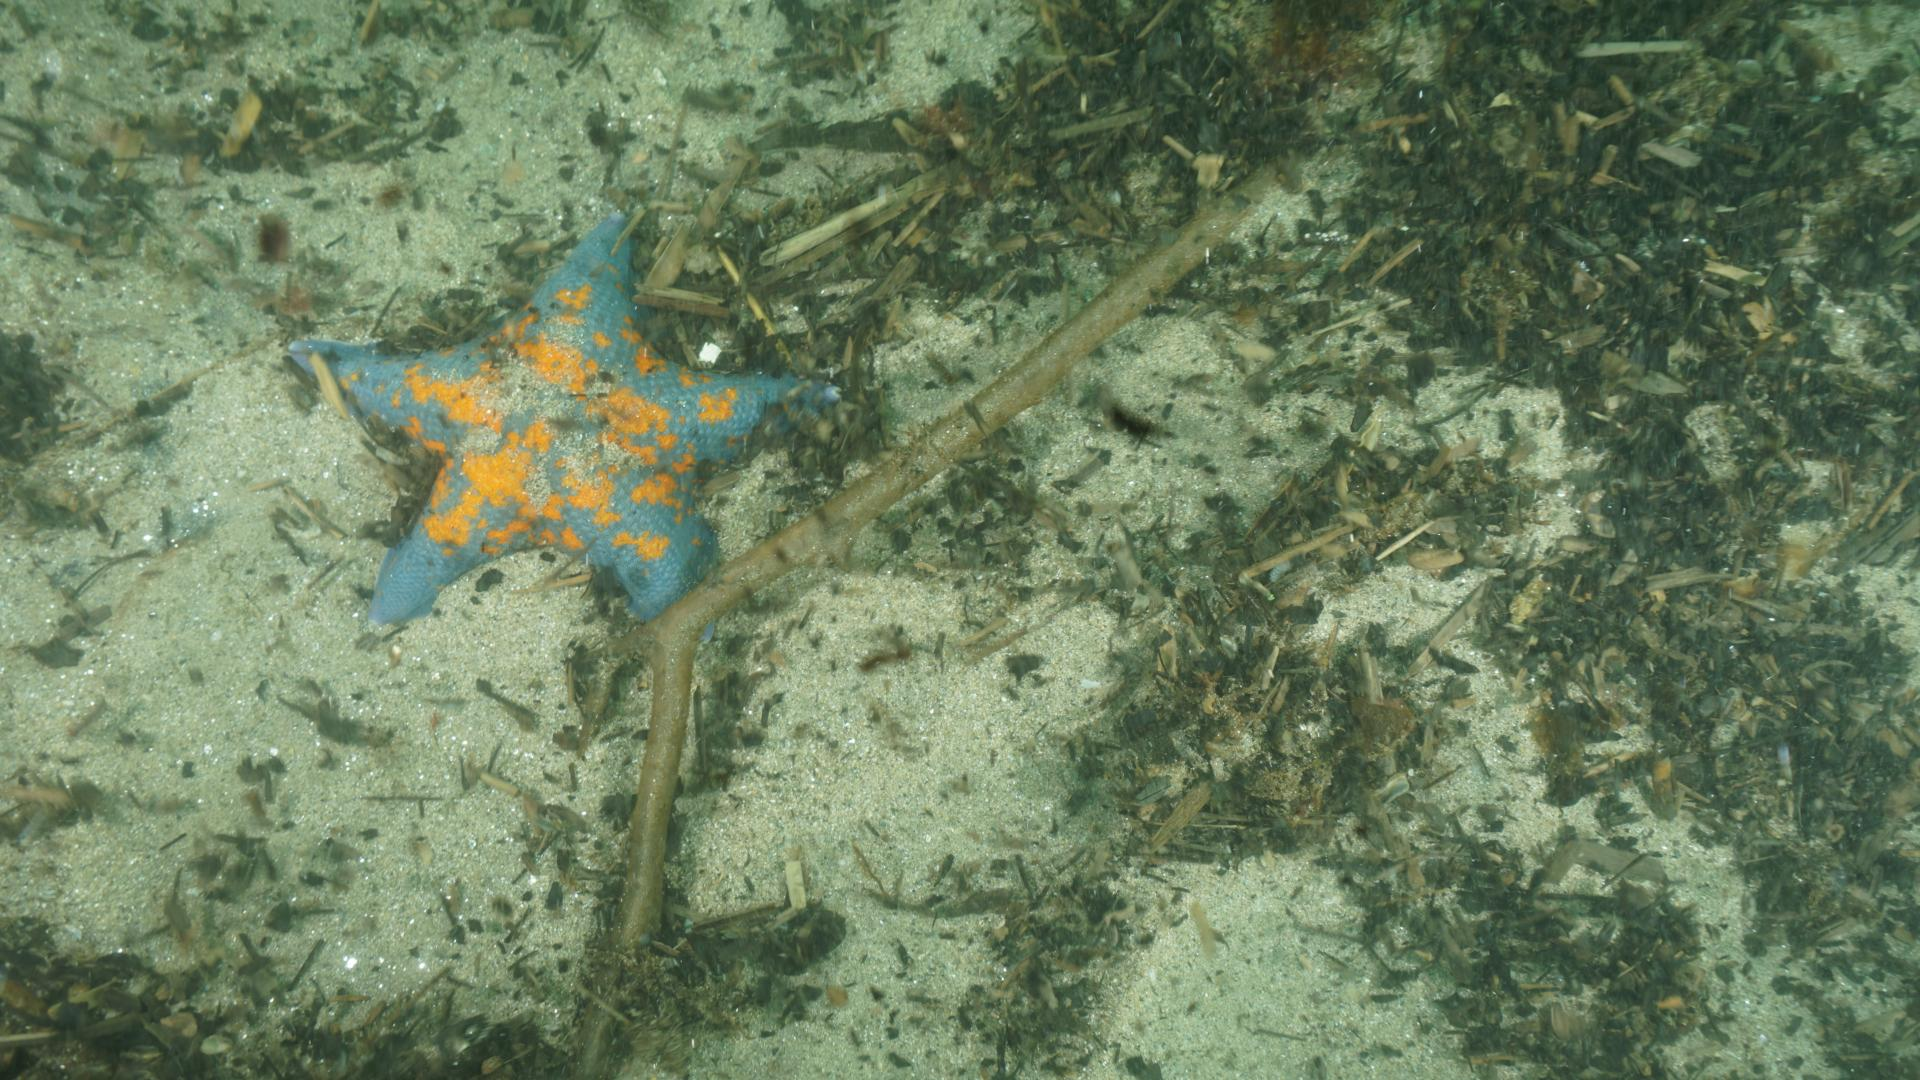wood: (615, 161, 1274, 955)
